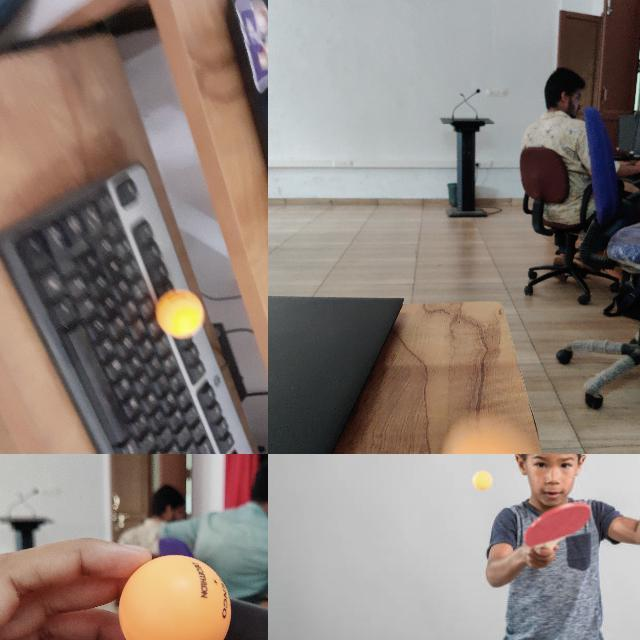ping-pong-ball: (118, 553, 231, 639), (442, 413, 539, 453), (154, 291, 202, 339), (473, 471, 491, 491)
